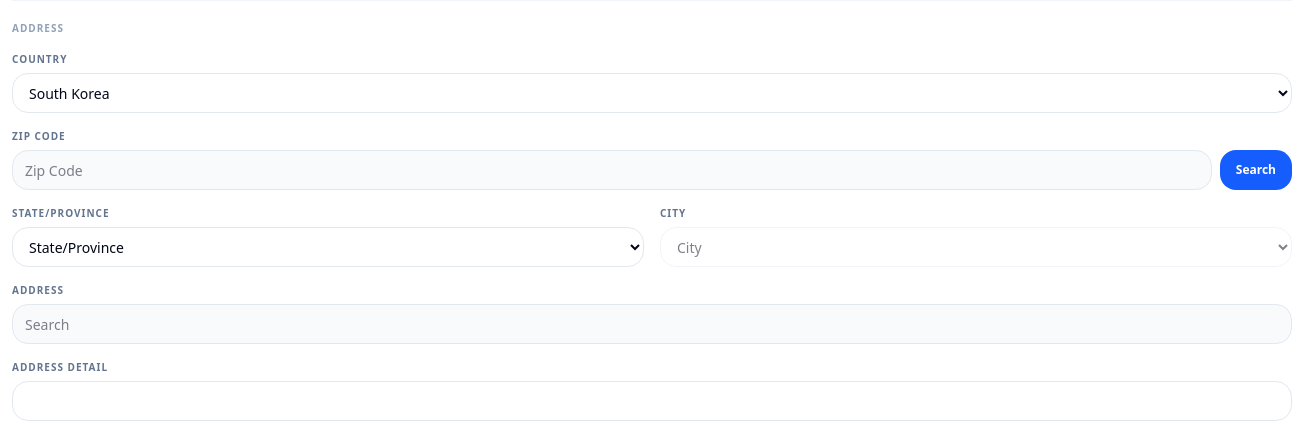
Scenario: TC-343-UI: AddressInput 쉼표 입력 시 공백 치환 › 해외 국가에서 주소 입력 시 쉼표가 공백으로 치환된다
Select "United States" in the dropdown below "Country" at (652, 93), box [12,73,1292,113]
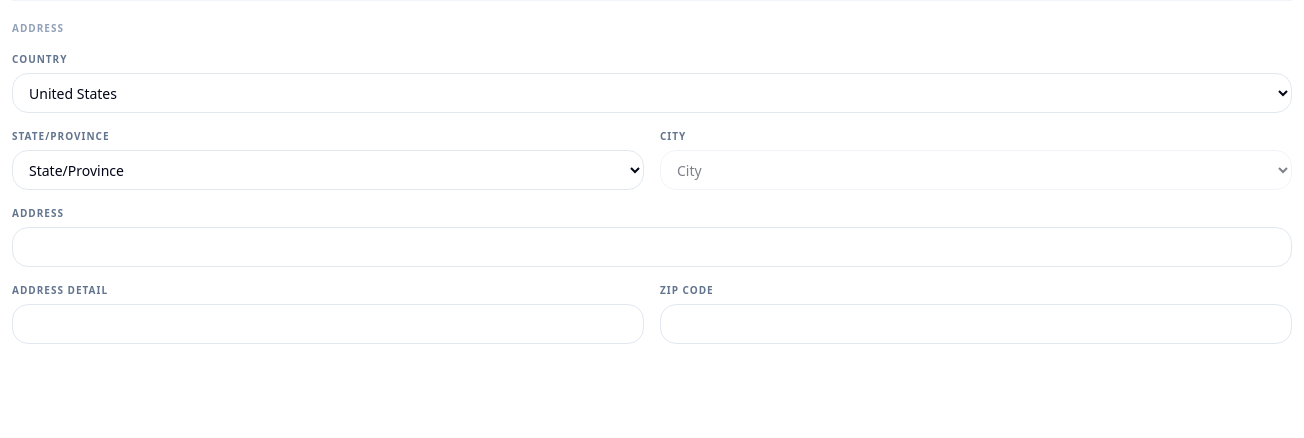
Type "123 Main St, Apt 1" into the 1st field named "address".
click(652, 247); type("123 Main St, Apt 1")  # box [12,227,1292,267]
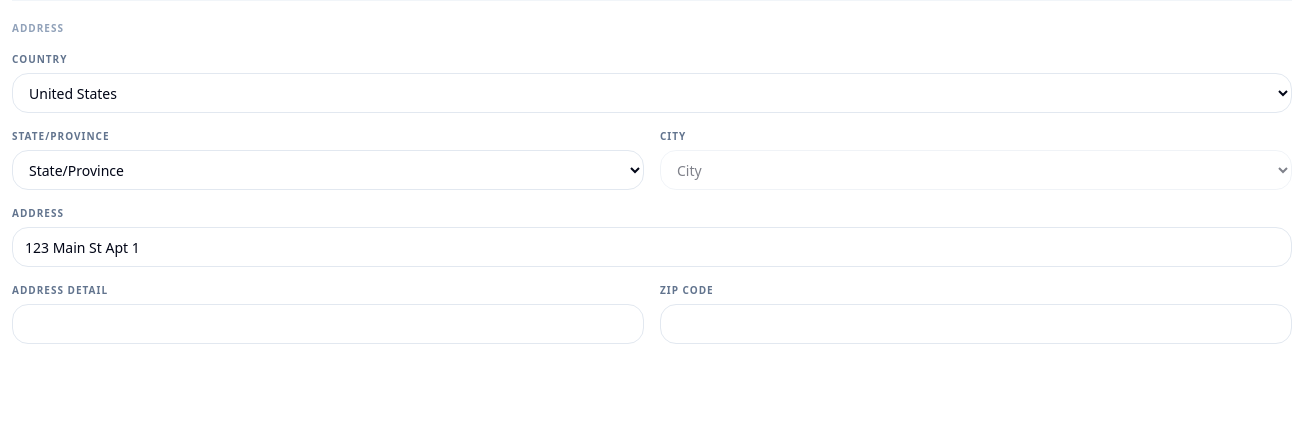
Check: the 1st field named "address" holds "123 Main St Apt 1", box [12,227,1292,267]
